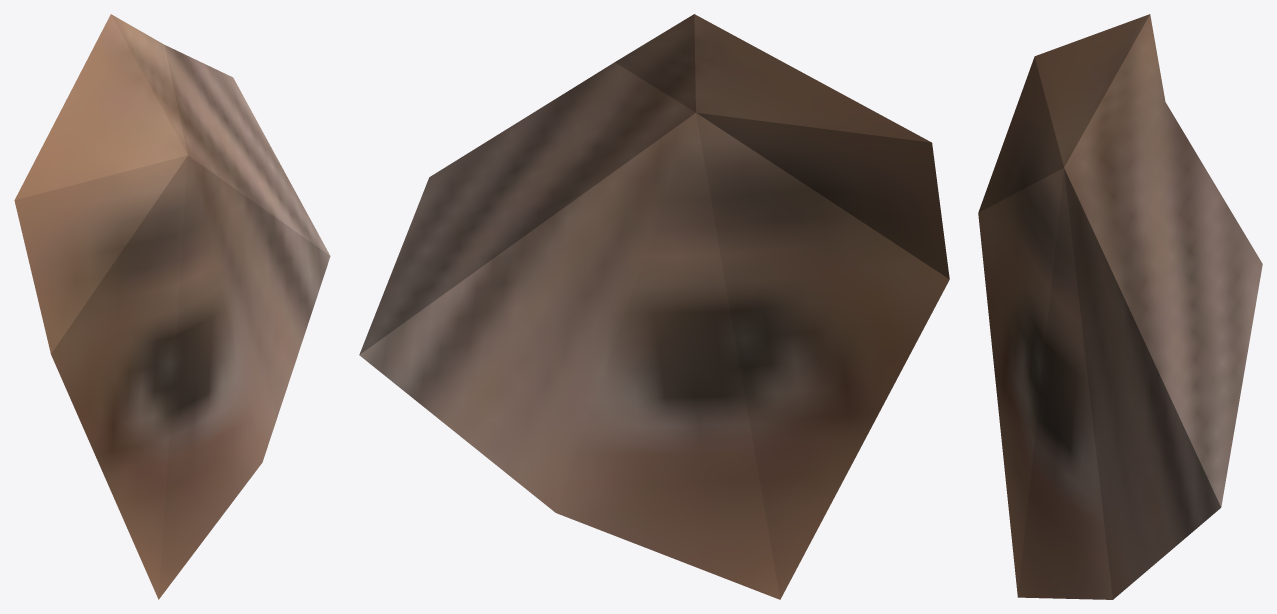
File: eye.glb
3 renders of one model, left to right at view 1: azimuth 30°, elevation 25°; view 2: azimuth 150°, elevation 25°; view 3: azimuth 270°, elevation 25°, orthographic. The views are drawn at different scales.
Parts seen in each view (by area): view 1: Mesh_0; view 2: Mesh_0; view 3: Mesh_0.
Part boxes in pixels (x1,y1,x2,y2): Mesh_0: [14, 14, 330, 599]; Mesh_0: [359, 14, 949, 599]; Mesh_0: [978, 14, 1262, 599].
Bounding box in the file's own units: 0.0528 × 0.0677 × 0.0296.
1 material, 1 textured.
